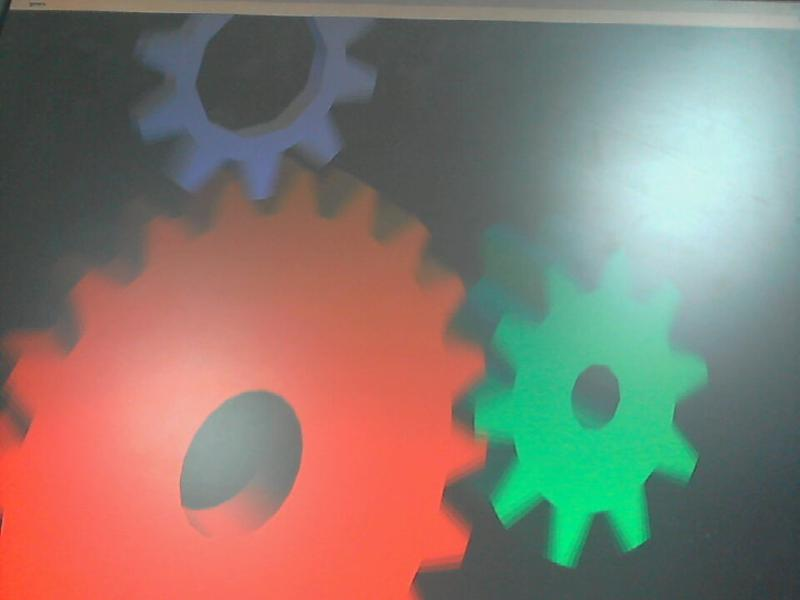glxgears_pass: (4, 5, 710, 600)
